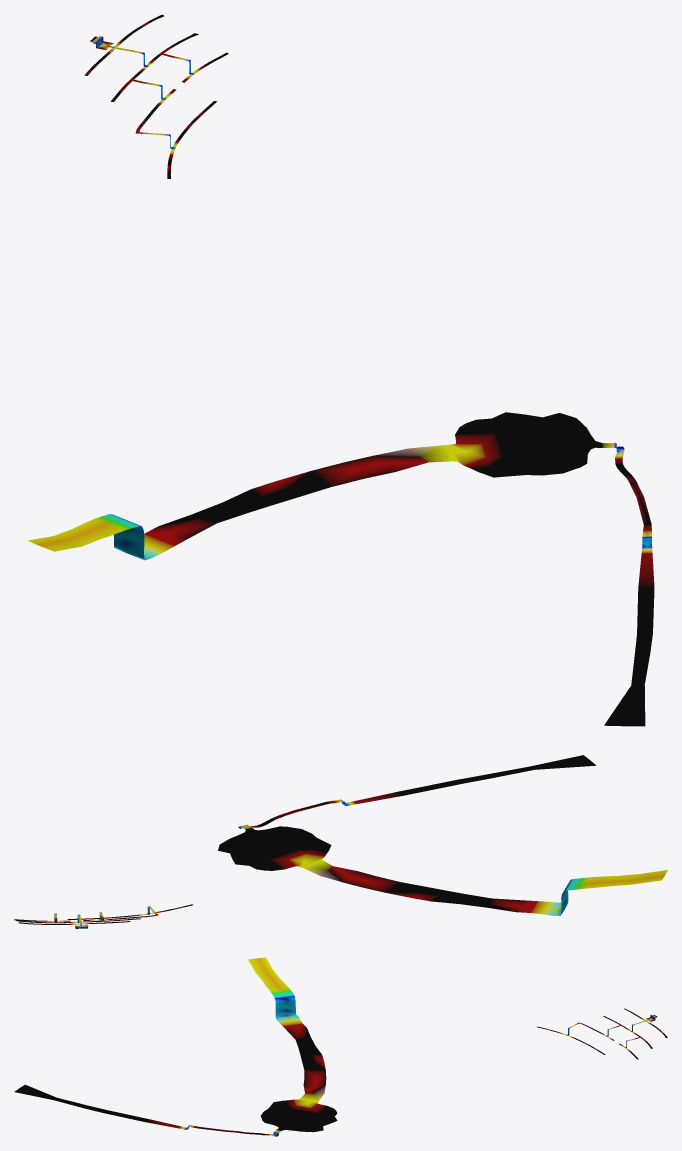
The picture shows the model from 3 angles, top to bottom: view 1: azimuth 30°, elevation 25°; view 2: azimuth 150°, elevation 25°; view 3: azimuth 270°, elevation 25°; orthographic projection. The views are drawn at different scales.
Visible parts, largest first — view 1: G:\FFXIV-MapTools\exports\y6f1\bg\ex5\02_ykt_y6\fld\y6f1\bgp; view 2: G:\FFXIV-MapTools\exports\y6f1\bg\ex5\02_ykt_y6\fld\y6f1\bgp; view 3: G:\FFXIV-MapTools\exports\y6f1\bg\ex5\02_ykt_y6\fld\y6f1\bgp.
Boxes of the visible parts, box(x1,y1,x2,y2) form: G:\FFXIV-MapTools\exports\y6f1\bg\ex5\02_ykt_y6\fld\y6f1\bgp: box(28, 14, 654, 726); G:\FFXIV-MapTools\exports\y6f1\bg\ex5\02_ykt_y6\fld\y6f1\bgp: box(14, 755, 667, 928); G:\FFXIV-MapTools\exports\y6f1\bg\ex5\02_ykt_y6\fld\y6f1\bgp: box(14, 957, 667, 1136).
Size of the model in its own units: 197 by 60.63 by 367.
